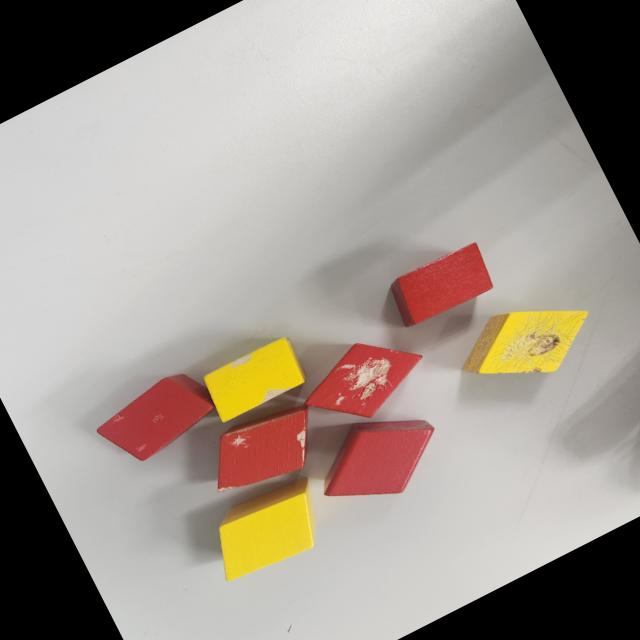broken: (445, 275, 606, 409), (290, 318, 436, 440), (195, 391, 335, 511), (88, 362, 223, 475), (199, 335, 310, 425)
red: (302, 390, 456, 524), (382, 238, 500, 332)
yellow: (197, 470, 339, 590)
